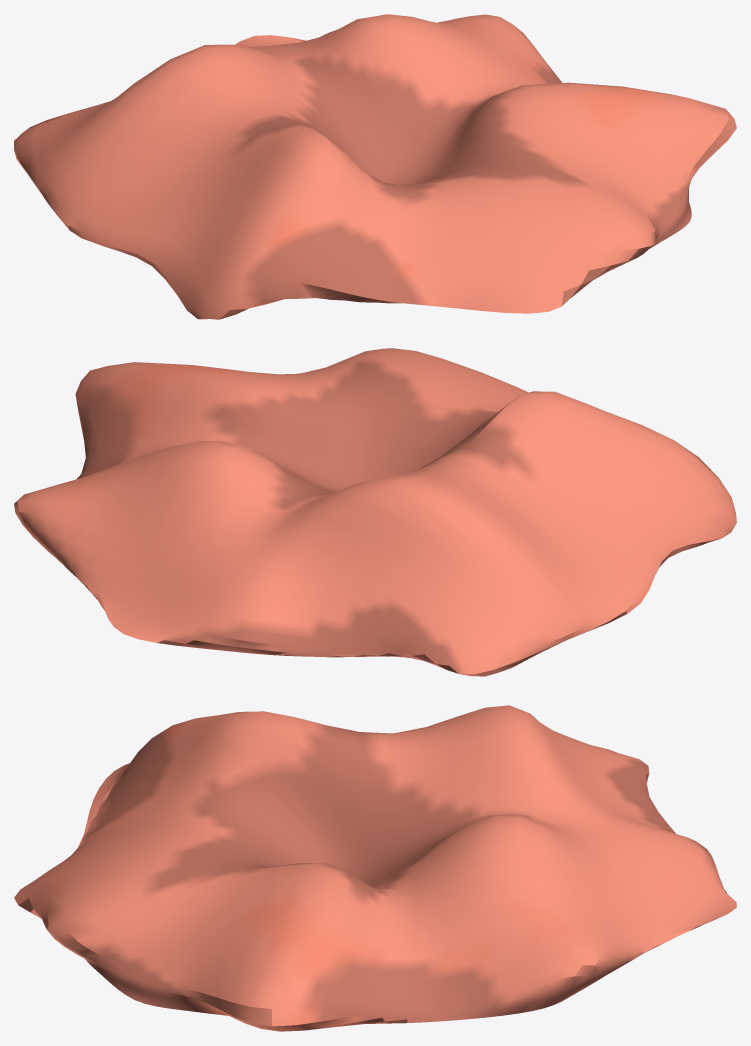
The model's file is Hole.fbx.
3 renders of one model, top to bottom at view 1: azimuth 30°, elevation 25°; view 2: azimuth 150°, elevation 25°; view 3: azimuth 270°, elevation 25°, orthographic. The views are drawn at different scales.
Parts seen in each view (by area): view 1: Plane; view 2: Plane; view 3: Plane.
Part boxes in pixels (x1,y1,x2,y2): Plane: [14, 14, 736, 319]; Plane: [14, 348, 736, 676]; Plane: [14, 705, 736, 1031].
Bounding box in the file's own units: 189 × 36.8 × 189.
